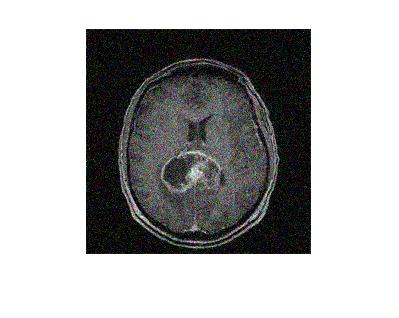Brain_Cancer: (157, 145, 226, 196)
